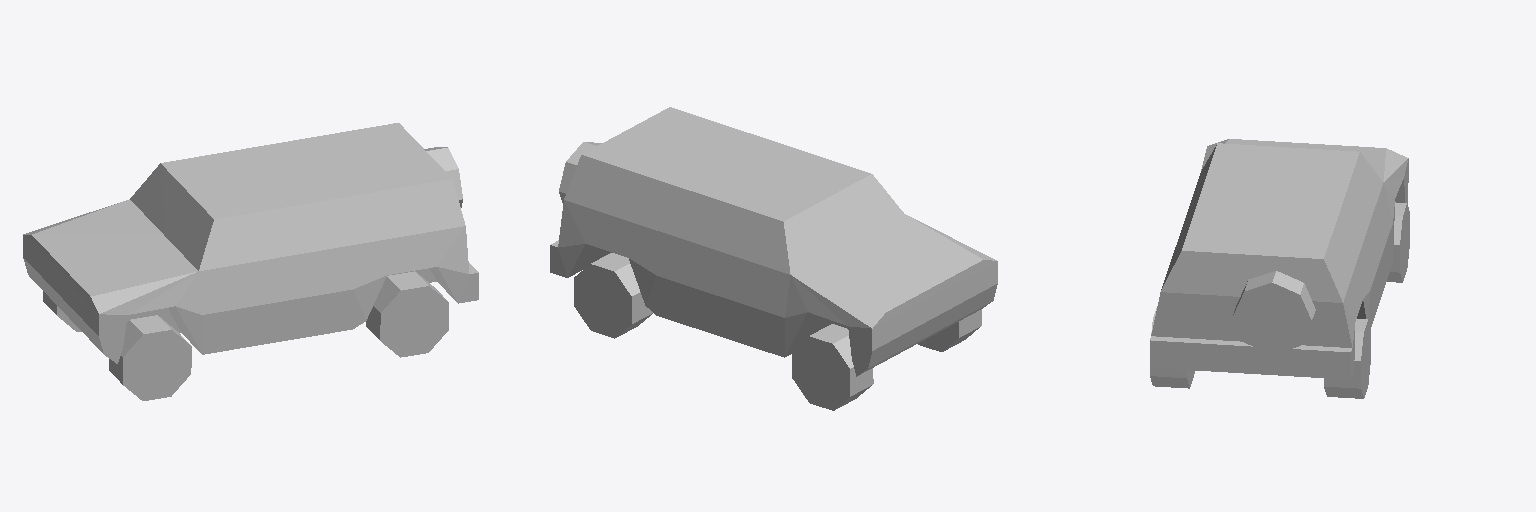
File: car5.obj
The picture shows the model from 3 angles: view 1: azimuth 30°, elevation 25°; view 2: azimuth 150°, elevation 25°; view 3: azimuth 270°, elevation 25°; orthographic projection.
Parts seen in each view (by area): view 1: _null_6; view 2: _null_6; view 3: _null_6.
Part boxes in pixels (left/top/right/bottom): _null_6: left=23, top=123, right=478, bottom=400; _null_6: left=550, top=107, right=997, bottom=410; _null_6: left=1150, top=139, right=1409, bottom=398.
Bounding box in the file's own units: 12.43 × 4.74 × 7.25.